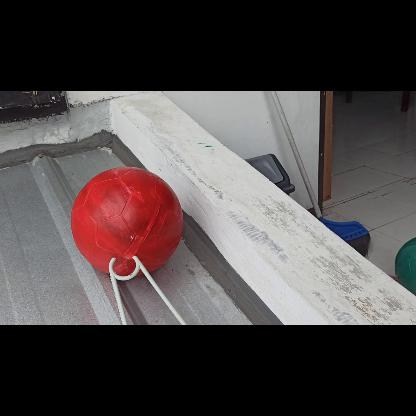red_ball: (71, 165, 183, 277)
